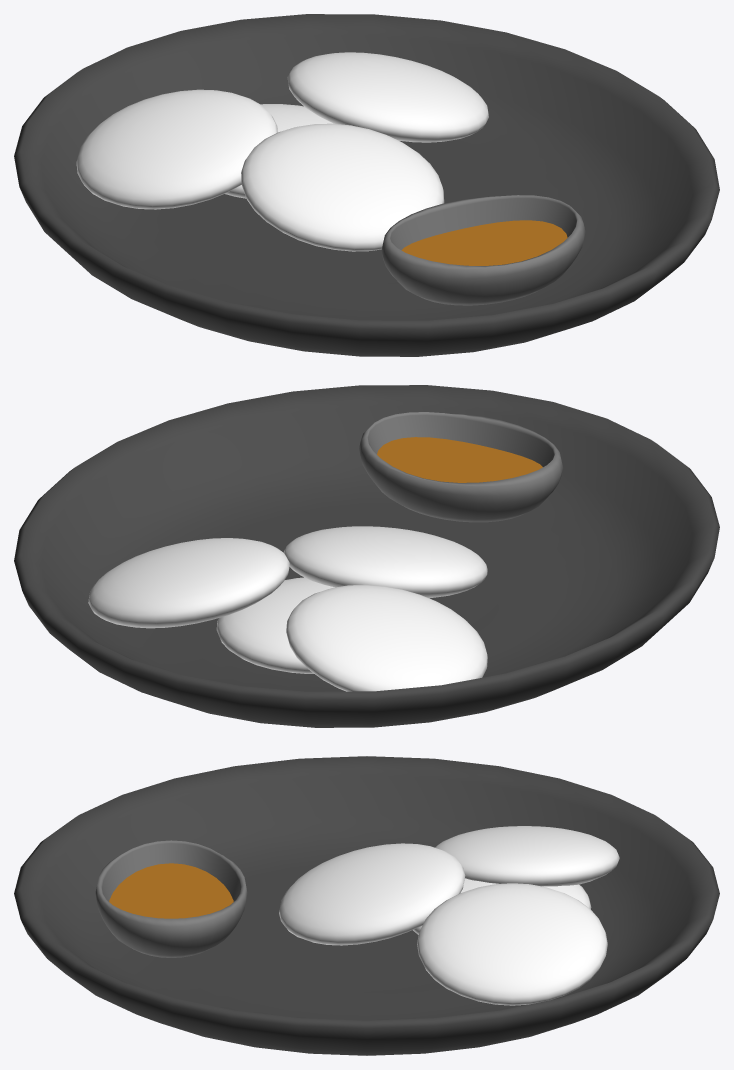
Rendered from Idli.fbx.
3 views of the same model, one above another, from view 1: azimuth 30°, elevation 25°; view 2: azimuth 150°, elevation 25°; view 3: azimuth 270°, elevation 25° (orthographic). The views are drawn at different scales.
Visible parts, largest first — view 1: Sphere.001; view 2: Sphere.001; view 3: Sphere.001.
Boxes of the visible parts, x1,y1,x2,y2 form: Sphere.001: [14, 14, 719, 356]; Sphere.001: [14, 385, 719, 727]; Sphere.001: [14, 756, 719, 1055].
Size of the model in its own units: 150 by 24.85 by 136.
